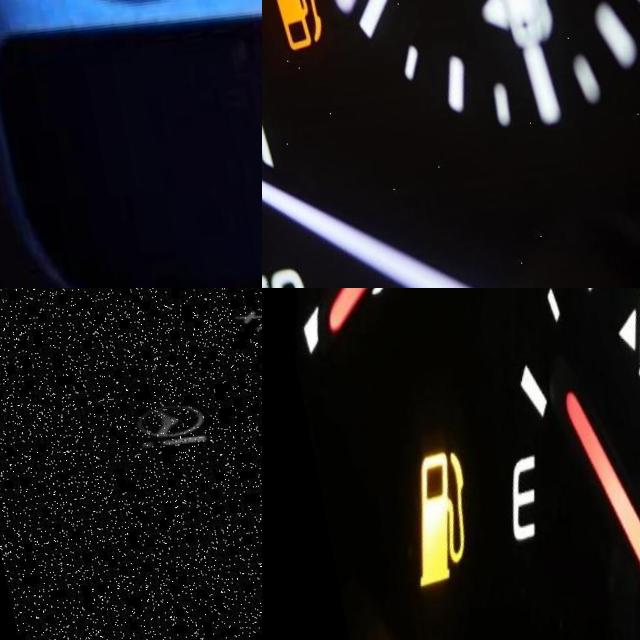Electronic Power Steering: (110, 394, 219, 476)
